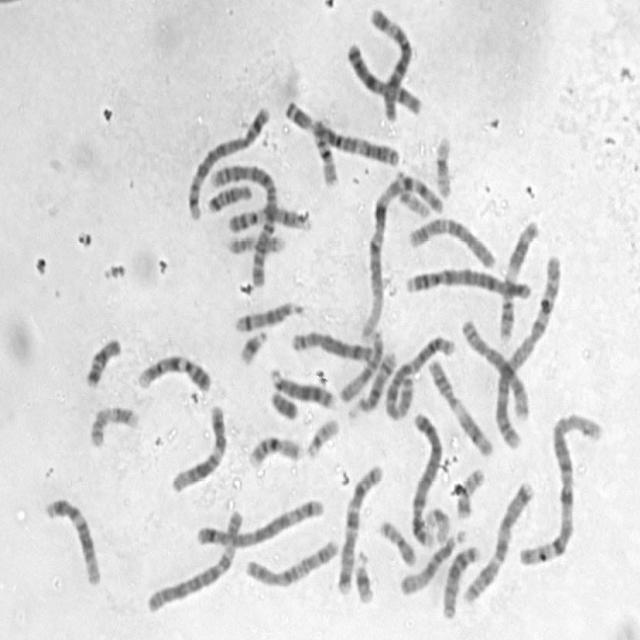A1: (358, 163, 440, 341), (516, 406, 605, 568)
A2: (489, 252, 562, 452), (206, 160, 279, 289)
A3: (278, 95, 401, 168), (382, 330, 456, 421)
B4: (400, 262, 535, 302), (407, 407, 443, 548)
B5: (184, 99, 272, 222), (192, 493, 326, 550)
C10: (242, 534, 342, 589), (406, 212, 498, 270)
C11: (424, 353, 496, 458), (495, 216, 541, 342)
C12: (167, 399, 229, 495), (42, 491, 103, 587)
C6: (142, 503, 246, 616), (366, 2, 416, 121)
C7: (460, 475, 536, 606), (332, 459, 385, 598)
C8: (456, 313, 531, 423), (288, 326, 374, 363)
C9: (134, 348, 213, 394), (223, 200, 314, 235)
D13: (440, 540, 482, 622), (266, 363, 338, 410)
D14: (344, 344, 398, 422), (231, 296, 306, 333)
D15: (396, 528, 460, 596), (336, 324, 385, 405)
E16: (245, 429, 304, 469), (310, 112, 340, 188)
E17: (85, 400, 141, 449), (223, 229, 287, 255)
E18: (82, 332, 124, 389), (203, 179, 252, 215)
F19: (431, 130, 455, 200), (422, 502, 452, 545)
F20: (375, 515, 418, 568), (452, 464, 486, 519)
G21: (351, 544, 376, 606), (236, 325, 269, 367)
G22: (302, 412, 340, 460), (396, 184, 432, 219)
X: (342, 36, 424, 116)
Y: (267, 386, 300, 421)
